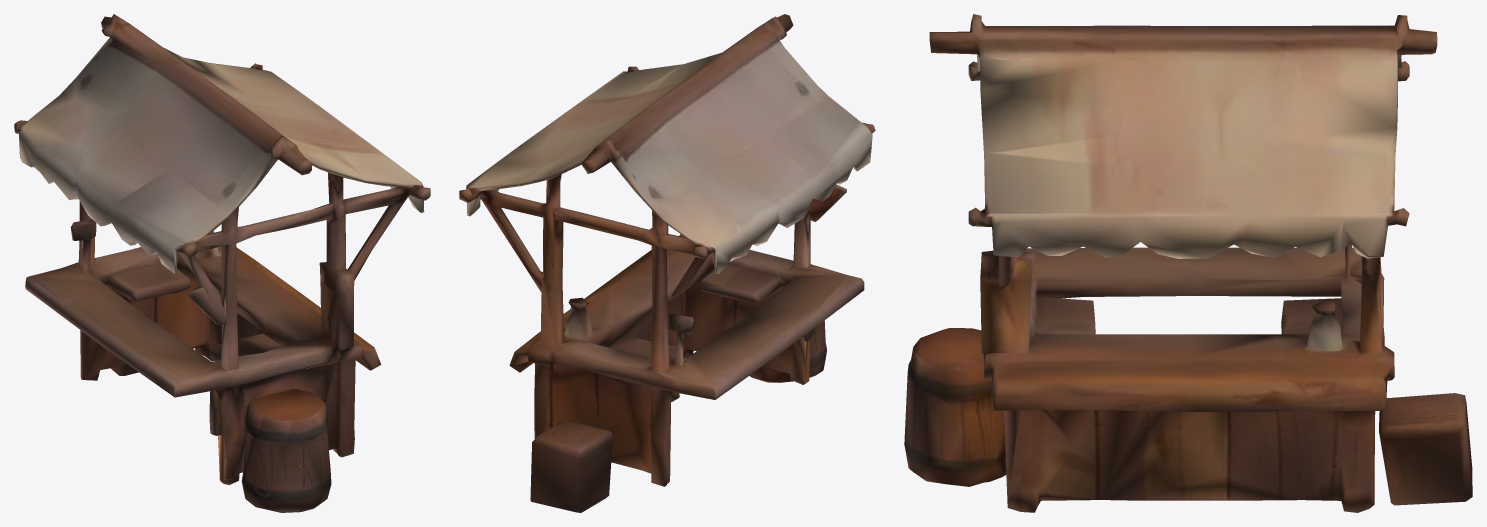
Rendered from market_stall.glb.
The picture shows the model from 3 angles, left to right: view 1: azimuth 30°, elevation 25°; view 2: azimuth 150°, elevation 25°; view 3: azimuth 270°, elevation 25°; orthographic projection. The views are drawn at different scales.
Visible parts, largest first — view 1: tripo_node_49d0580a-3105-474e-9e59-bcab7db1737e; view 2: tripo_node_49d0580a-3105-474e-9e59-bcab7db1737e; view 3: tripo_node_49d0580a-3105-474e-9e59-bcab7db1737e.
Part boxes in pixels (bbox=[...]): tripo_node_49d0580a-3105-474e-9e59-bcab7db1737e: bbox=[14, 14, 430, 512]; tripo_node_49d0580a-3105-474e-9e59-bcab7db1737e: bbox=[459, 14, 875, 512]; tripo_node_49d0580a-3105-474e-9e59-bcab7db1737e: bbox=[904, 14, 1472, 512].
Bounding box in the file's own units: 0.6232 × 0.8435 × 0.9413.
Materials: 1 (1 with a texture image).
